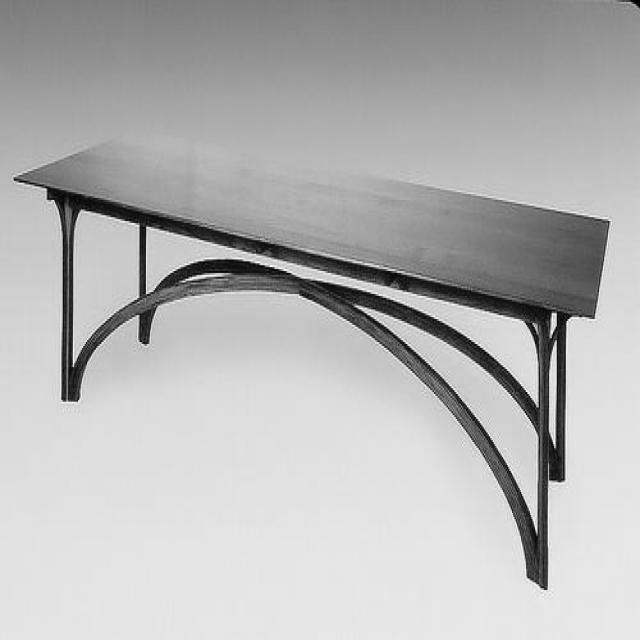table: (13, 124, 611, 586)
